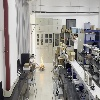fire: (40, 53, 43, 68)
